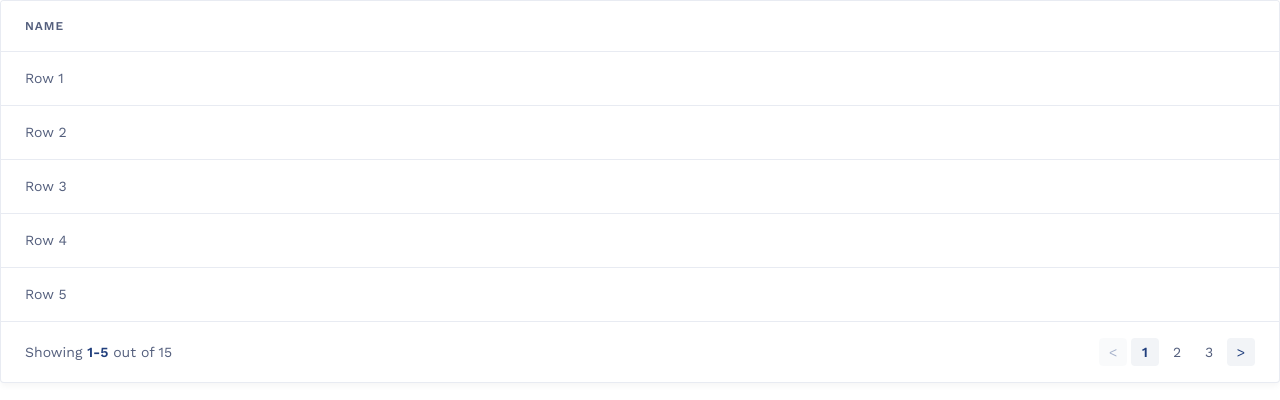
Test: Table › paginates data when there are more rows than pageSize
This screenshot has width=1280, height=400.
Expected: the text "Row 1" is shown, [25,70,64,86]
Expected: the text "Row 5" is shown, [25,286,67,302]
Click the button named "next page" at (1241, 352), box [1227,338,1255,366]
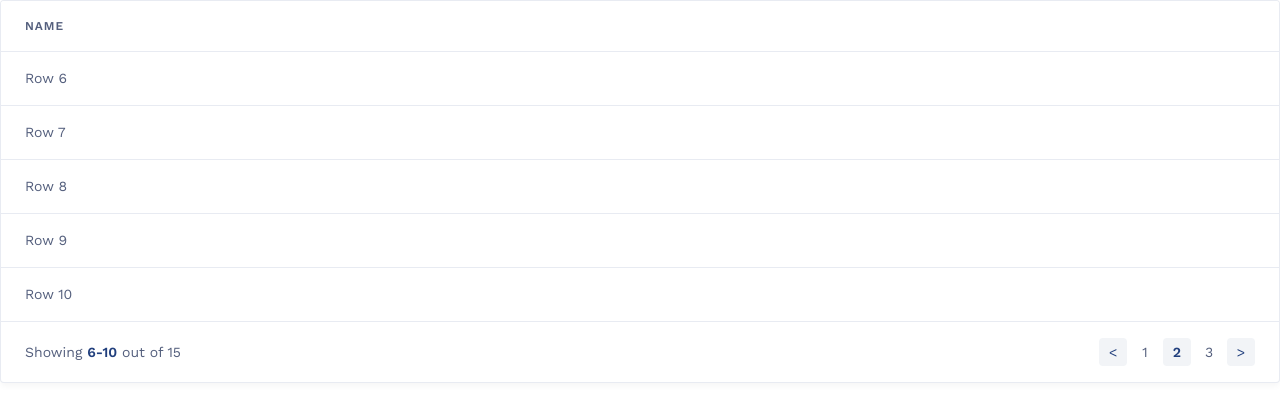
Expected: the text "Row 6" is shown, [25,70,67,86]
Expected: the text "Row 10" is shown, [25,286,72,302]
